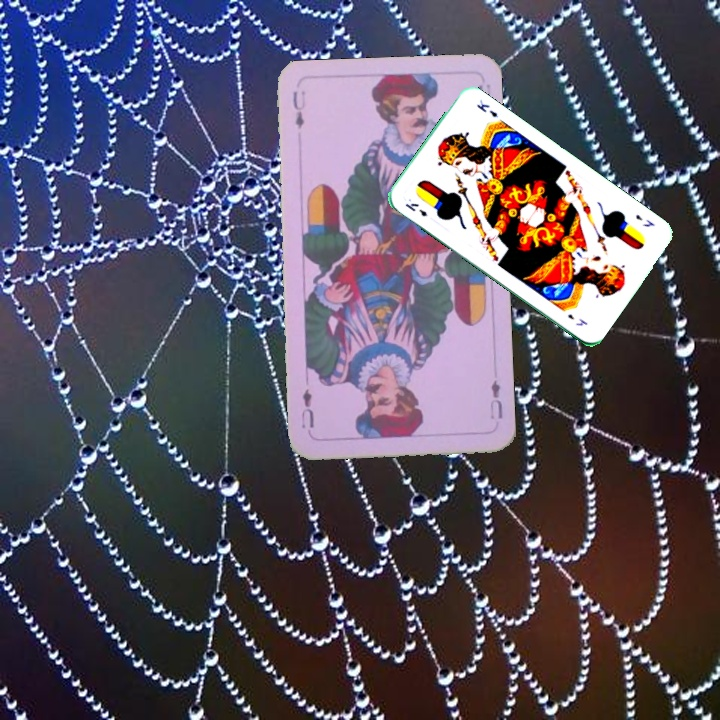EK: (401, 199, 430, 219), (632, 210, 657, 230)
EU: (485, 376, 505, 422), (288, 87, 308, 131)
